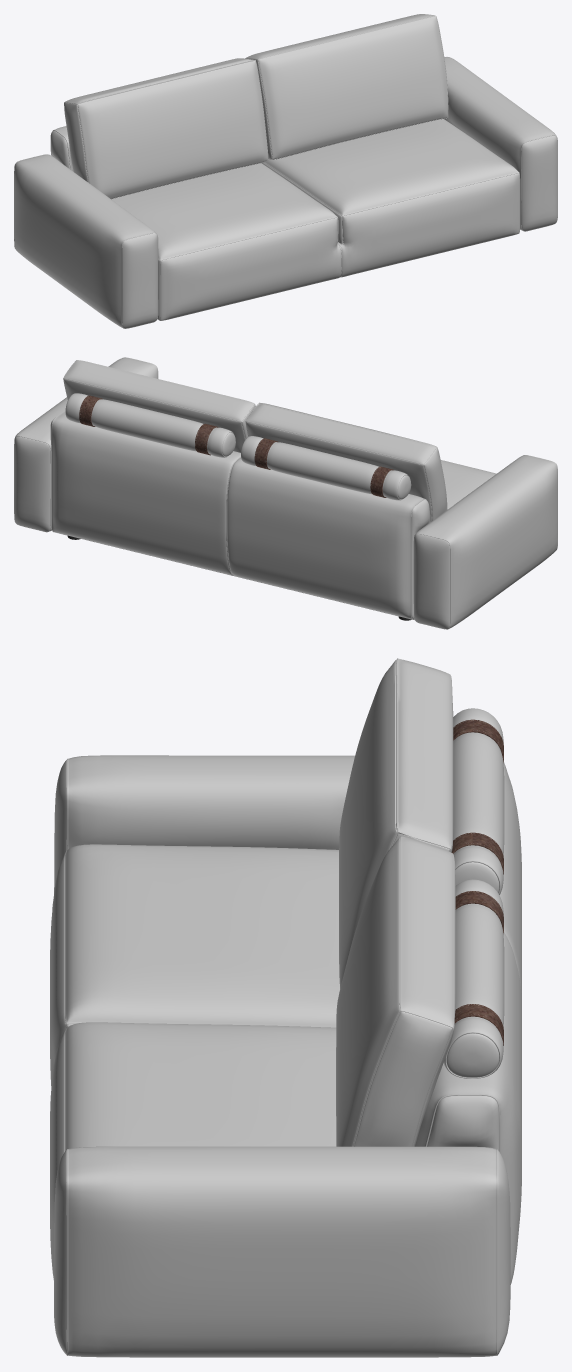
The picture shows the model from 3 angles, top to bottom: view 1: azimuth 30°, elevation 25°; view 2: azimuth 150°, elevation 25°; view 3: azimuth 270°, elevation 25°; orthographic projection. The views are drawn at different scales.
Visible parts, largest first — view 1: Material-Tessuto_SF; view 2: Material-Tessuto_SF, Material-Cuoio; view 3: Material-Tessuto_SF, Material-Cuoio.
Part boxes in pixels (bbox=[...]): Material-Tessuto_SF: bbox=[14, 14, 557, 328]; Material-Tessuto_SF: bbox=[14, 357, 557, 629]; Material-Cuoio: bbox=[79, 395, 393, 497]; Material-Tessuto_SF: bbox=[50, 658, 521, 1357]; Material-Cuoio: bbox=[451, 719, 503, 1045].
Size of the model in its own units: 2.58 by 0.8921 by 1.17.
